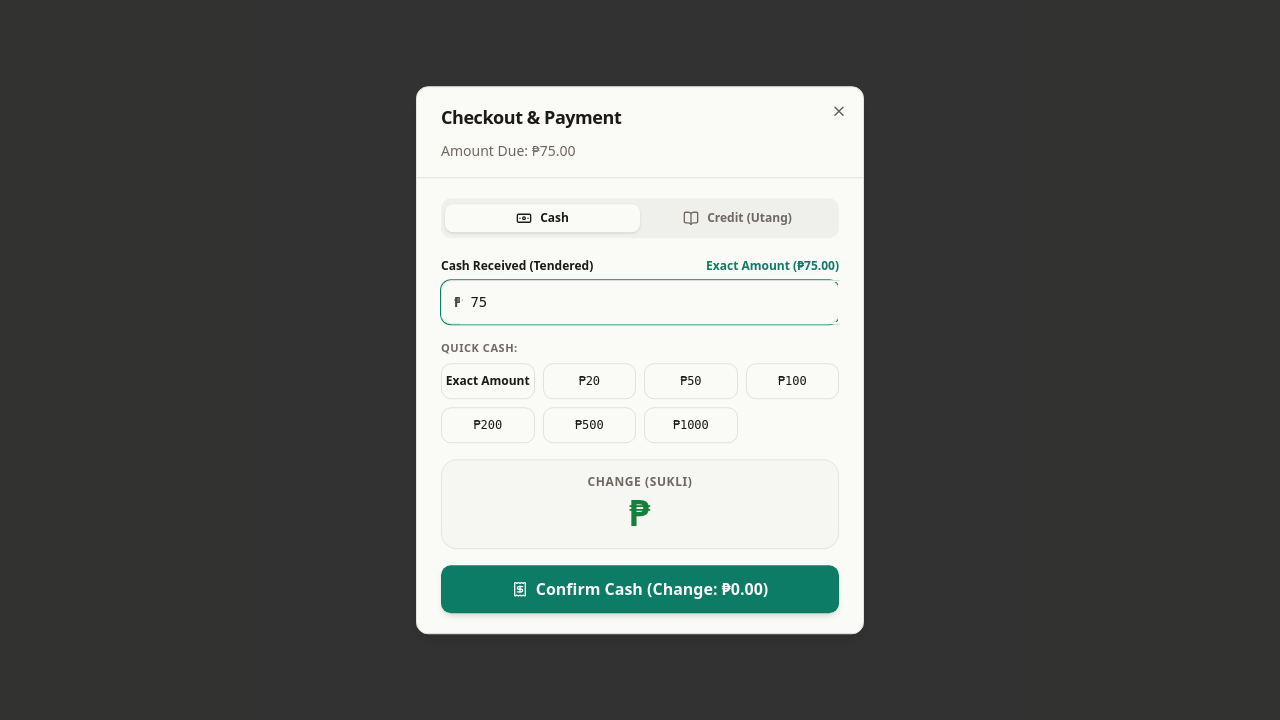
Scenario: End-to-End User Flows Against Mock Database › 2. Utang sale: add items -> Pay -> Utang tab -> pick existing suki -> confirm -> balance rose
Step 1. Click the tab "Credit (Utang)" → (738, 218), box [640,204,835,232]
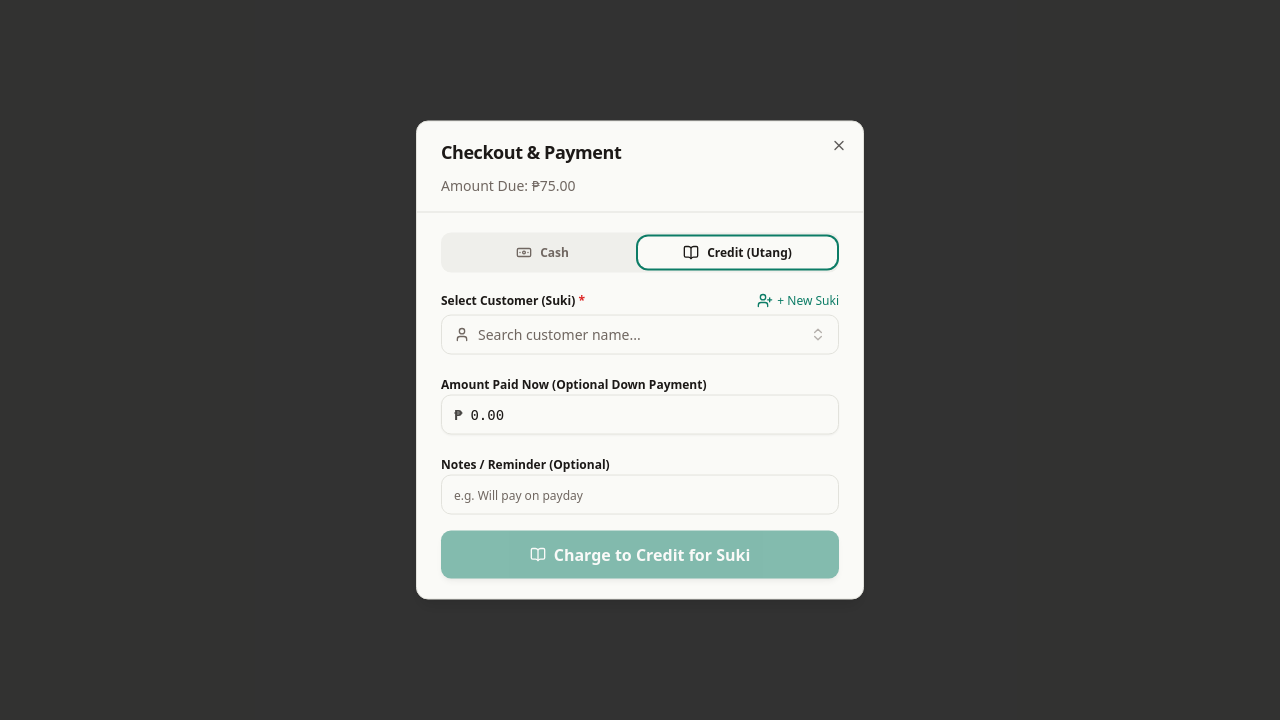
Step 2. Click the dropdown → (640, 334), box [441,314,839,354]
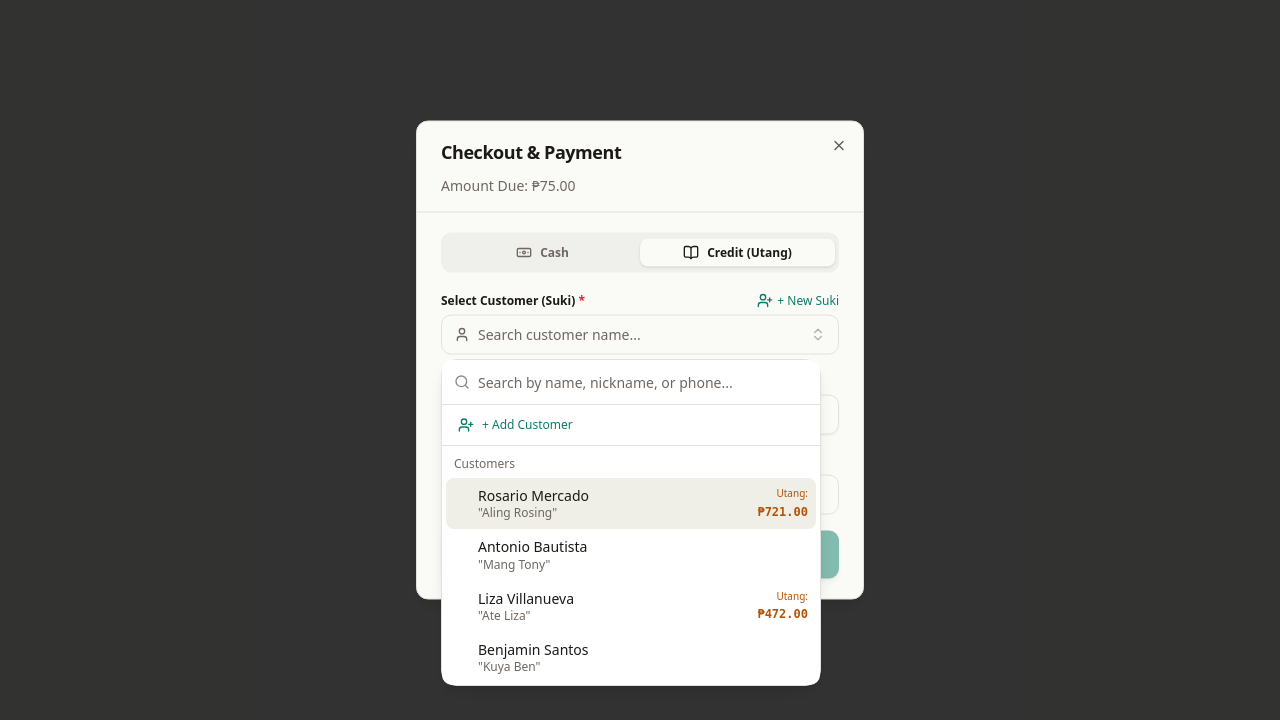
Step 3. Click the text "Rosario Mercado" → (534, 496), box [478,486,589,505]
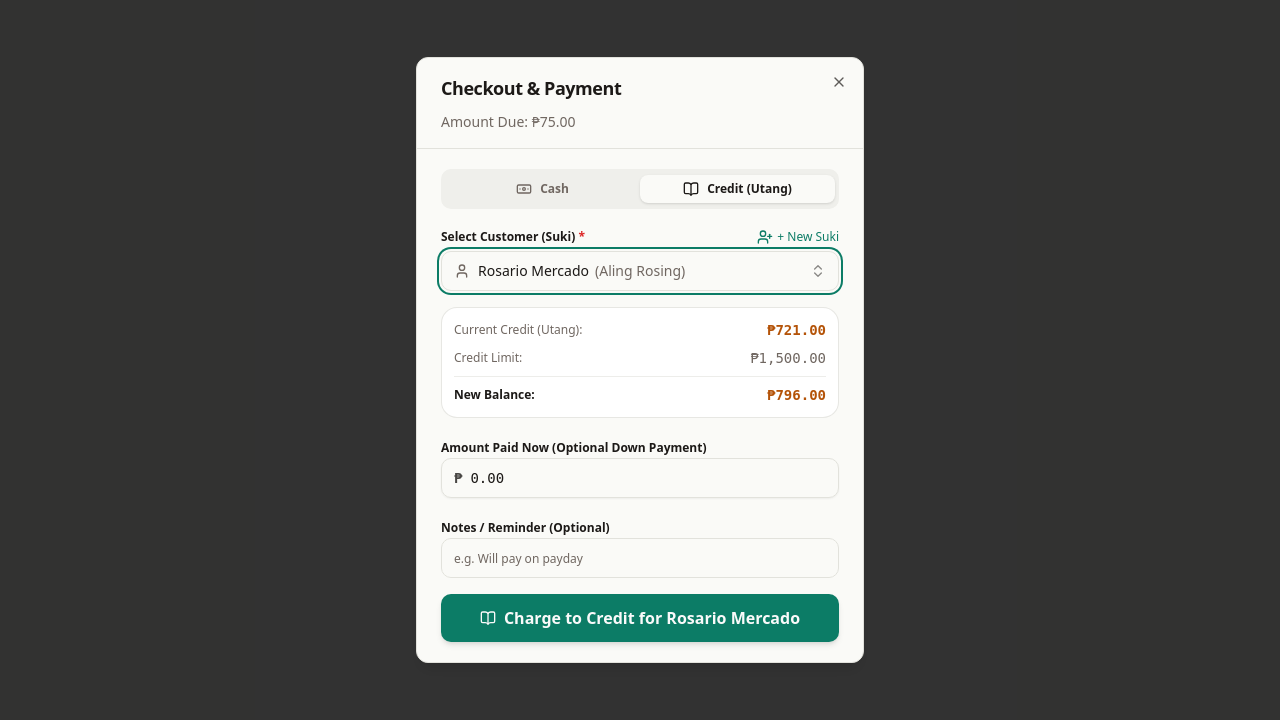
Step 4. Click the button "Charge to Credit for Rosario Mercado" → (640, 618), box [441,594,839,642]
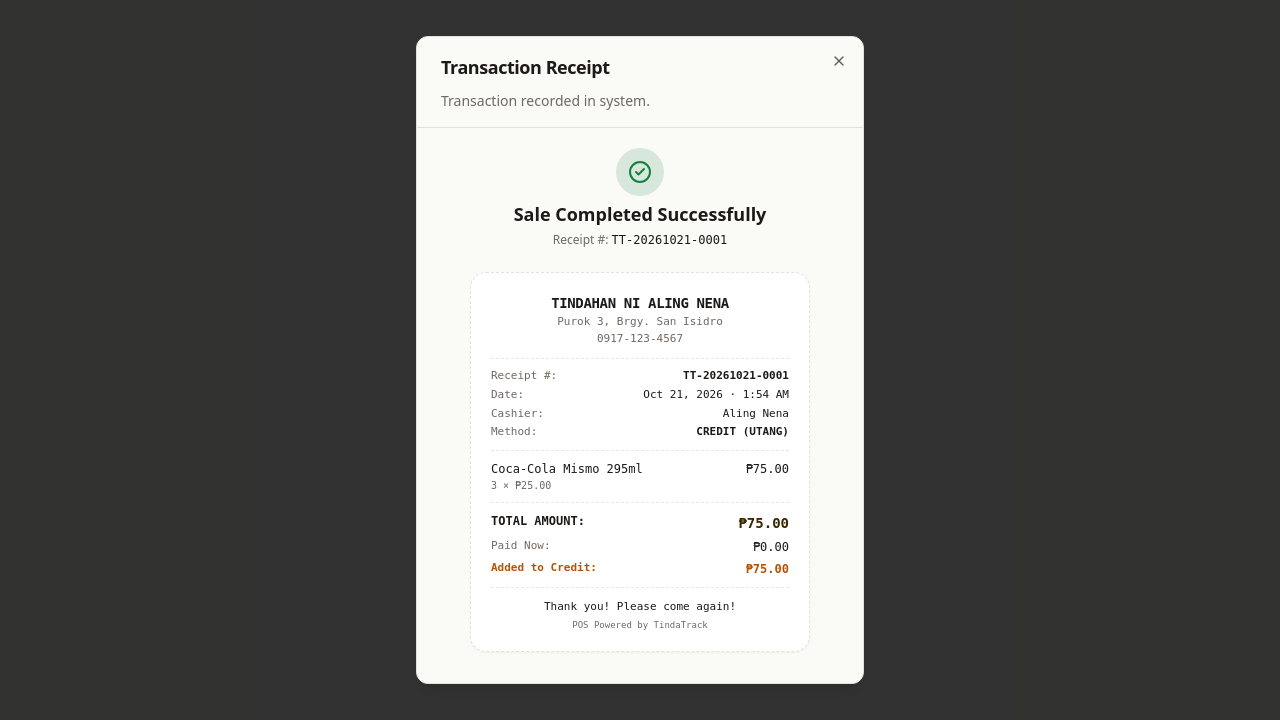
Result: the heading "Transaction Receipt" is shown at [441,55,610,79]
